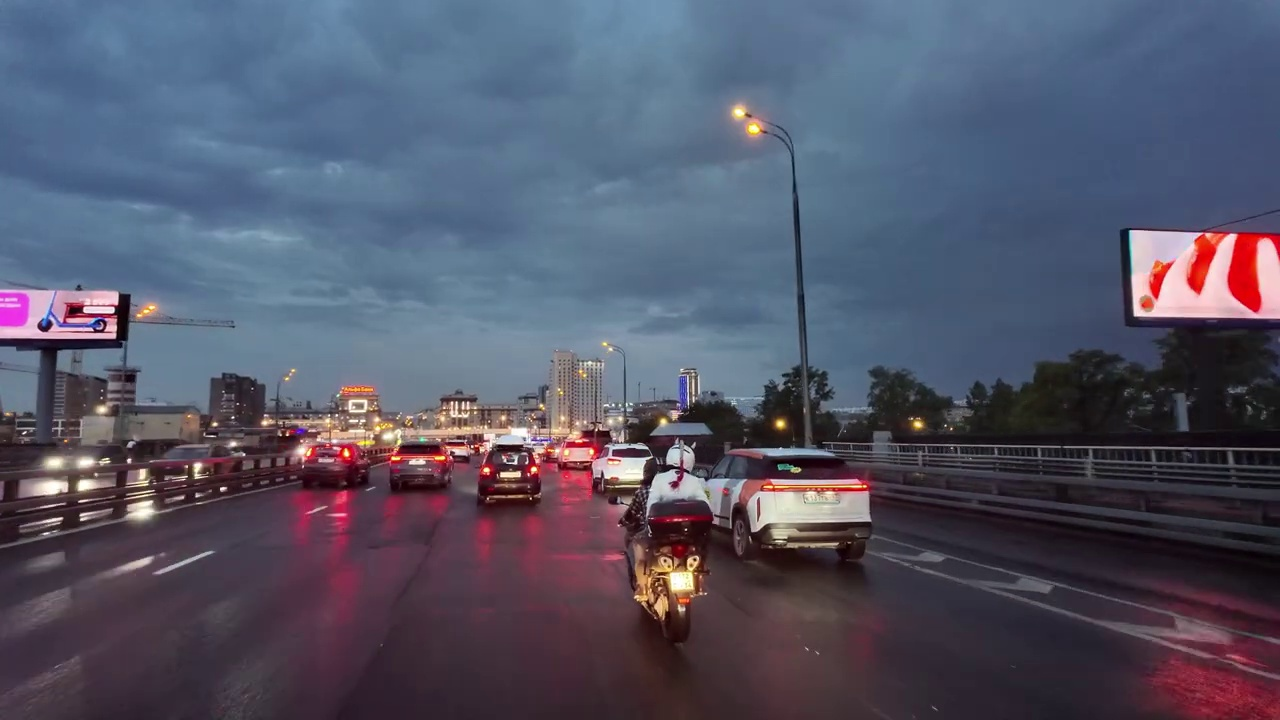acesa: (728, 103, 767, 141)
